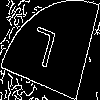L: (24, 25, 58, 79)
